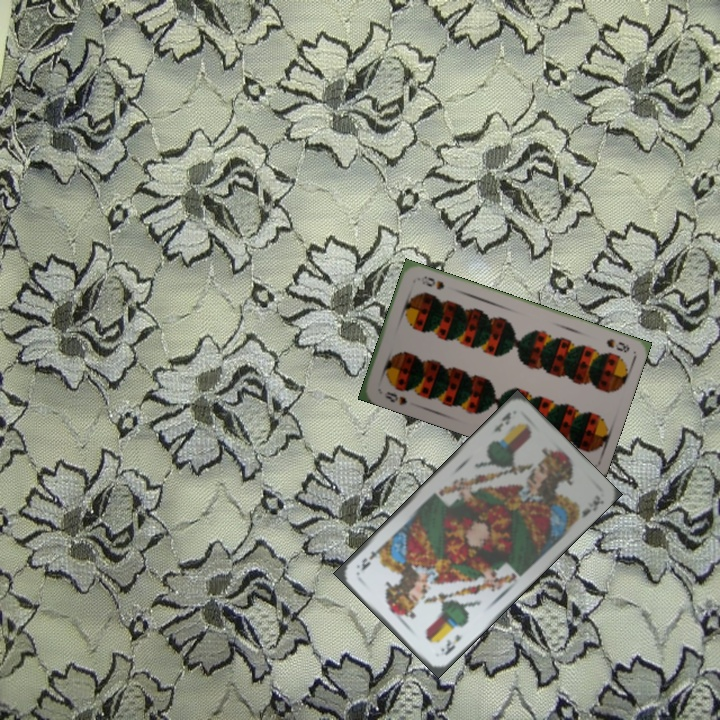EK: (436, 630, 463, 658), (489, 408, 514, 435)
S8: (602, 334, 632, 355), (380, 388, 410, 408)
